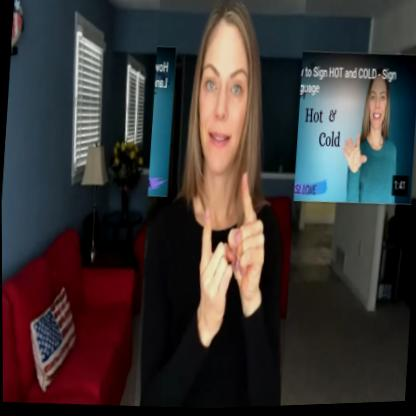NiceToMeetYou: (132, 0, 308, 412)
